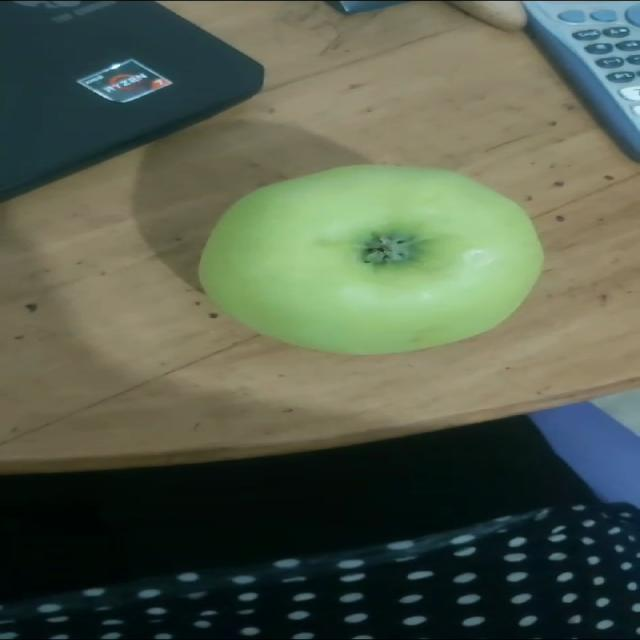50-_ripeness: (196, 163, 541, 354)
